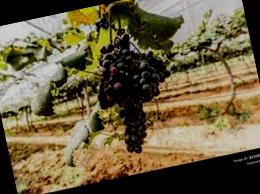Grape Rotten: (82, 6, 186, 158), (85, 22, 186, 158)
